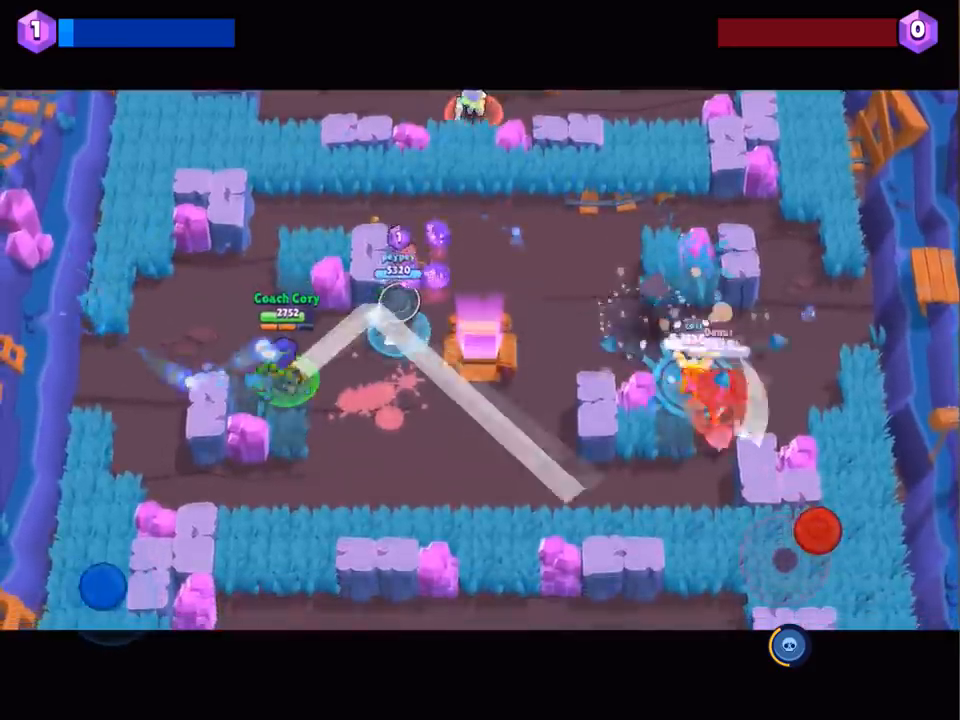move_stick: (82, 563, 128, 604)
